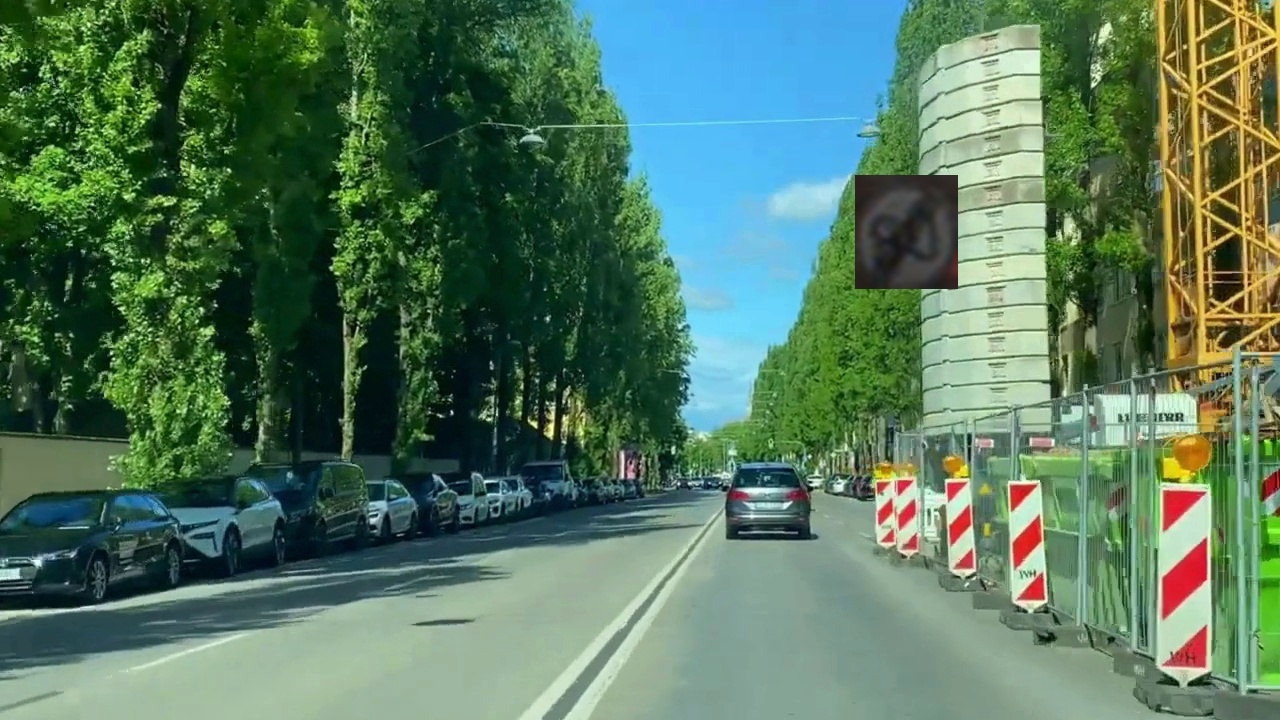End Speed 80: (855, 175, 958, 289)
